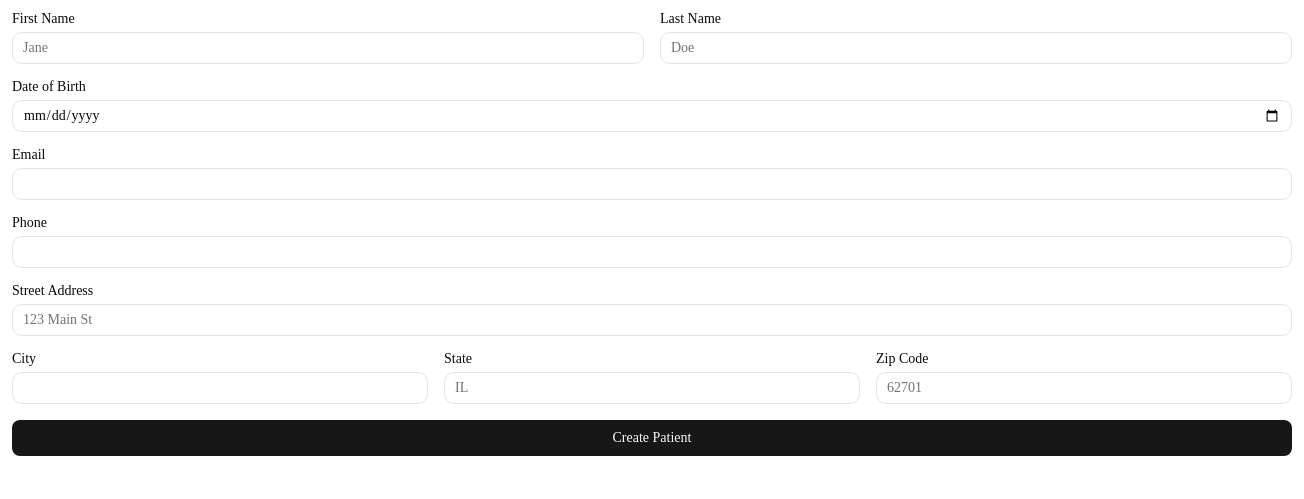
Scenario: NewPatientForm › shows last name error when last name field is blurred while empty
This screenshot has width=1304, height=499.
Click the field labelled "Last Name" at coordinates (976, 48), box [660,32,1292,64]
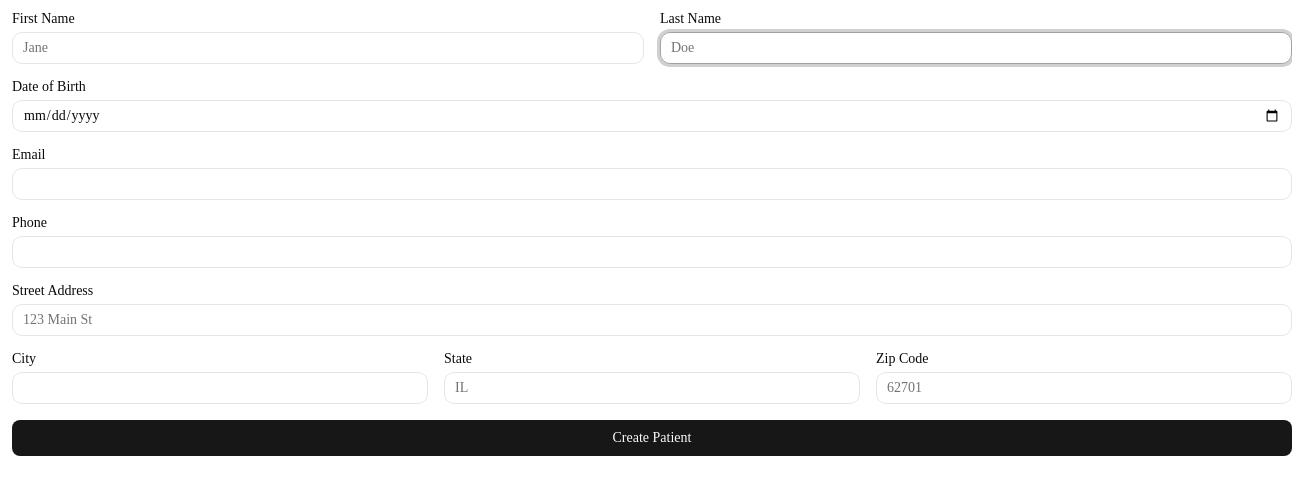
Press Tab
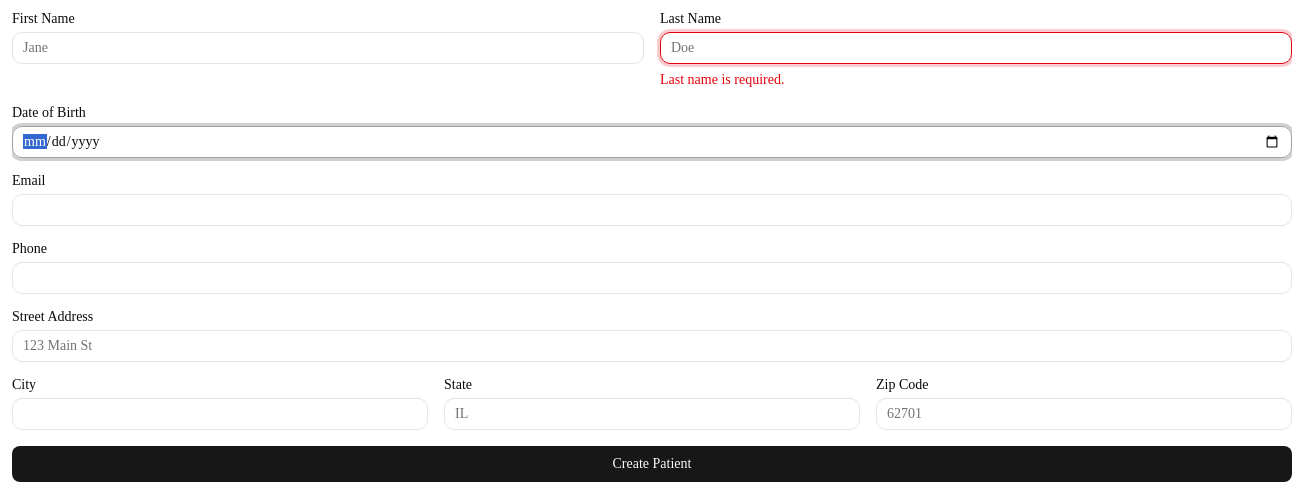
Now the text "Last name is required." is shown, box [660,72,784,87]
